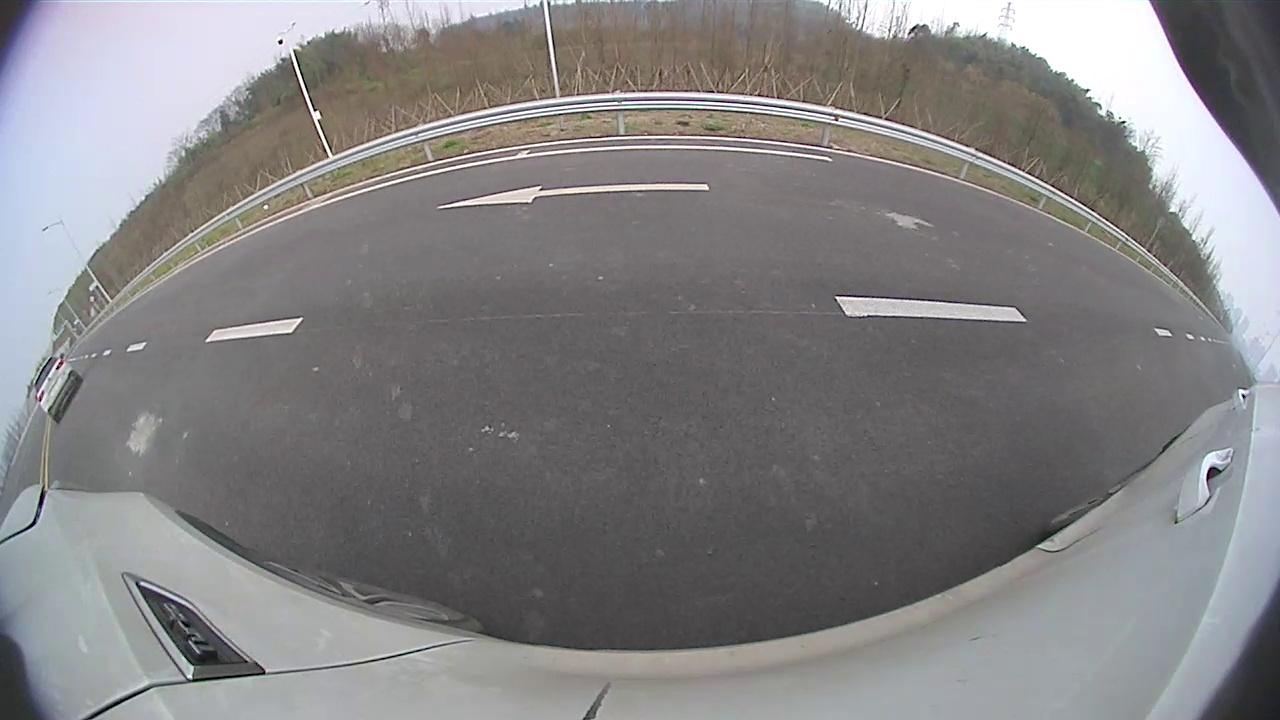car: (628, 132, 716, 205)
